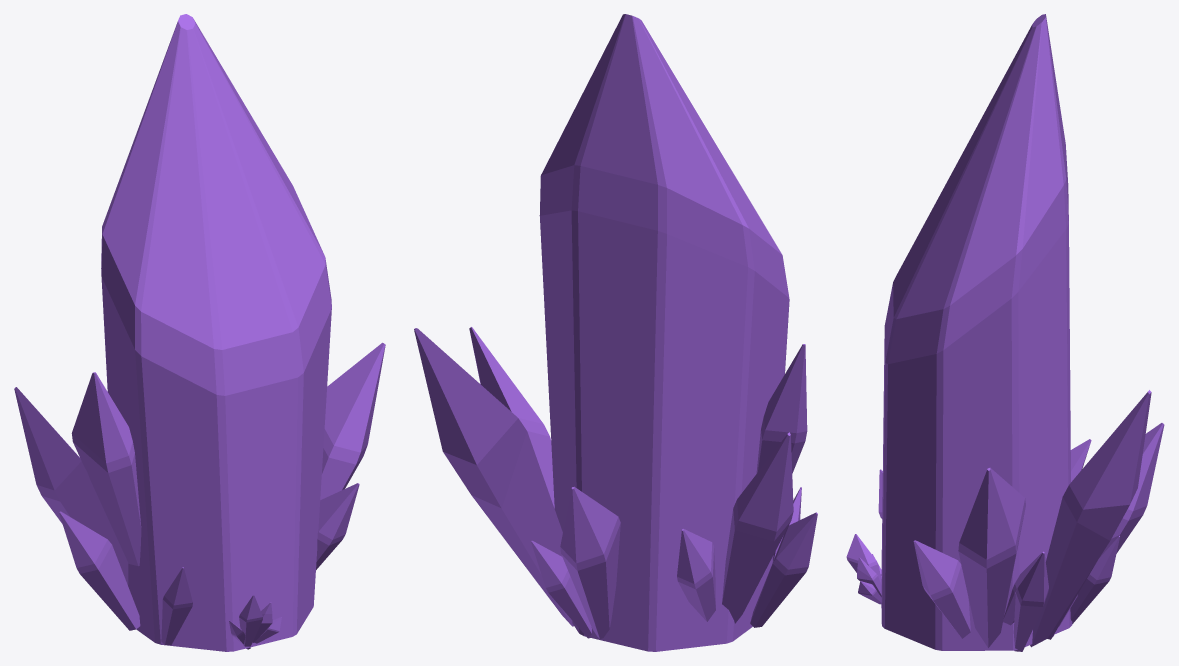
File: Crystal Switch.fbx
3 renders of one model, left to right at view 1: azimuth 30°, elevation 25°; view 2: azimuth 150°, elevation 25°; view 3: azimuth 270°, elevation 25°, orthographic. The views are drawn at different scales.
Visible parts, largest first — view 1: Crystal Switch; view 2: Crystal Switch; view 3: Crystal Switch.
Part boxes in pixels (x1=…): Crystal Switch: x1=14, y1=14, x2=385, y2=651; Crystal Switch: x1=414, y1=14, x2=817, y2=651; Crystal Switch: x1=846, y1=14, x2=1164, y2=651.
Bounding box in the file's own units: 226 × 373 × 179.
